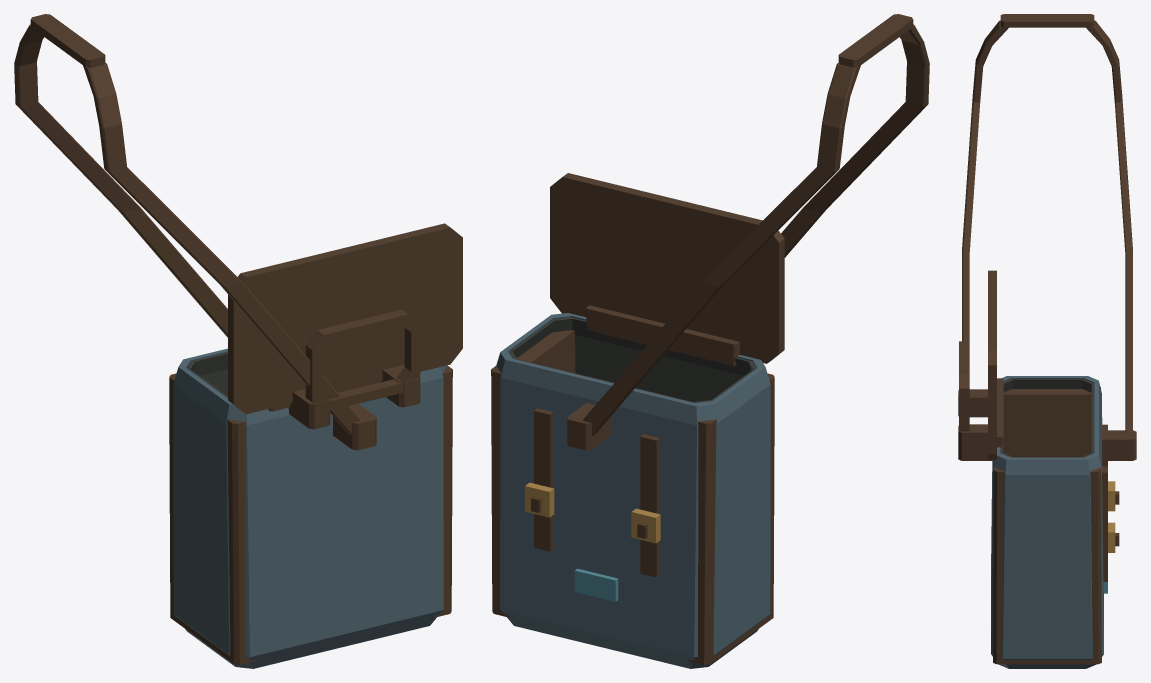
3 views of the same model, side by side, from view 1: azimuth 30°, elevation 25°; view 2: azimuth 150°, elevation 25°; view 3: azimuth 270°, elevation 25° (orthographic). The views are drawn at different scales.
Visible parts, largest first — view 1: CHAR-014; view 2: CHAR-014; view 3: CHAR-014.
Boxes of the visible parts, left/top/right/bottom form: CHAR-014: left=14, top=14, right=462, bottom=668; CHAR-014: left=491, top=14, right=929, bottom=668; CHAR-014: left=958, top=14, right=1136, bottom=668.
Bounding box in the file's own units: 0.449 × 0.756 × 0.236.
Materials: 5 (5 with a texture image).
